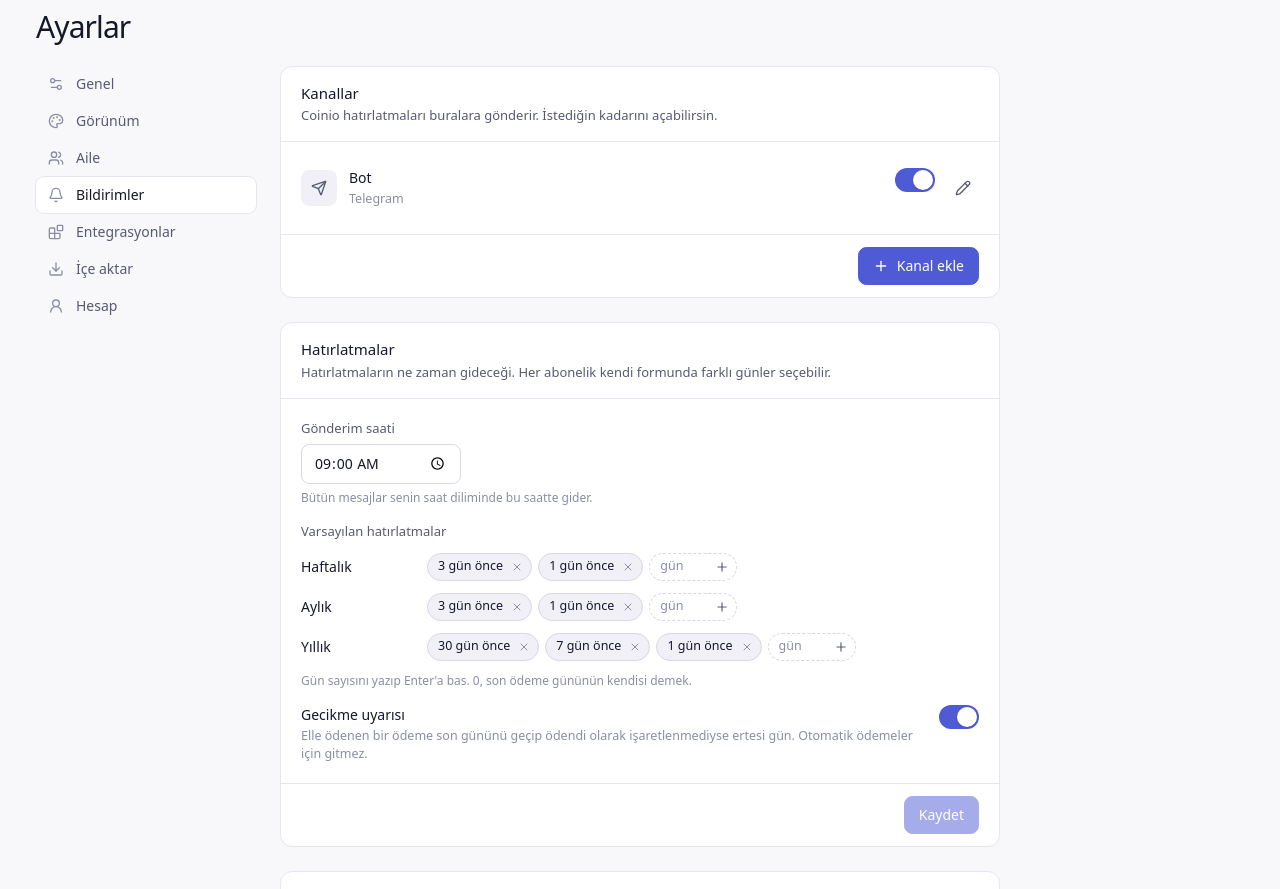
Test: settings › never shows a saved secret, only that it is saved
Click the button named "bot kanalını düzenle": (963, 188) [947,172,979,204]
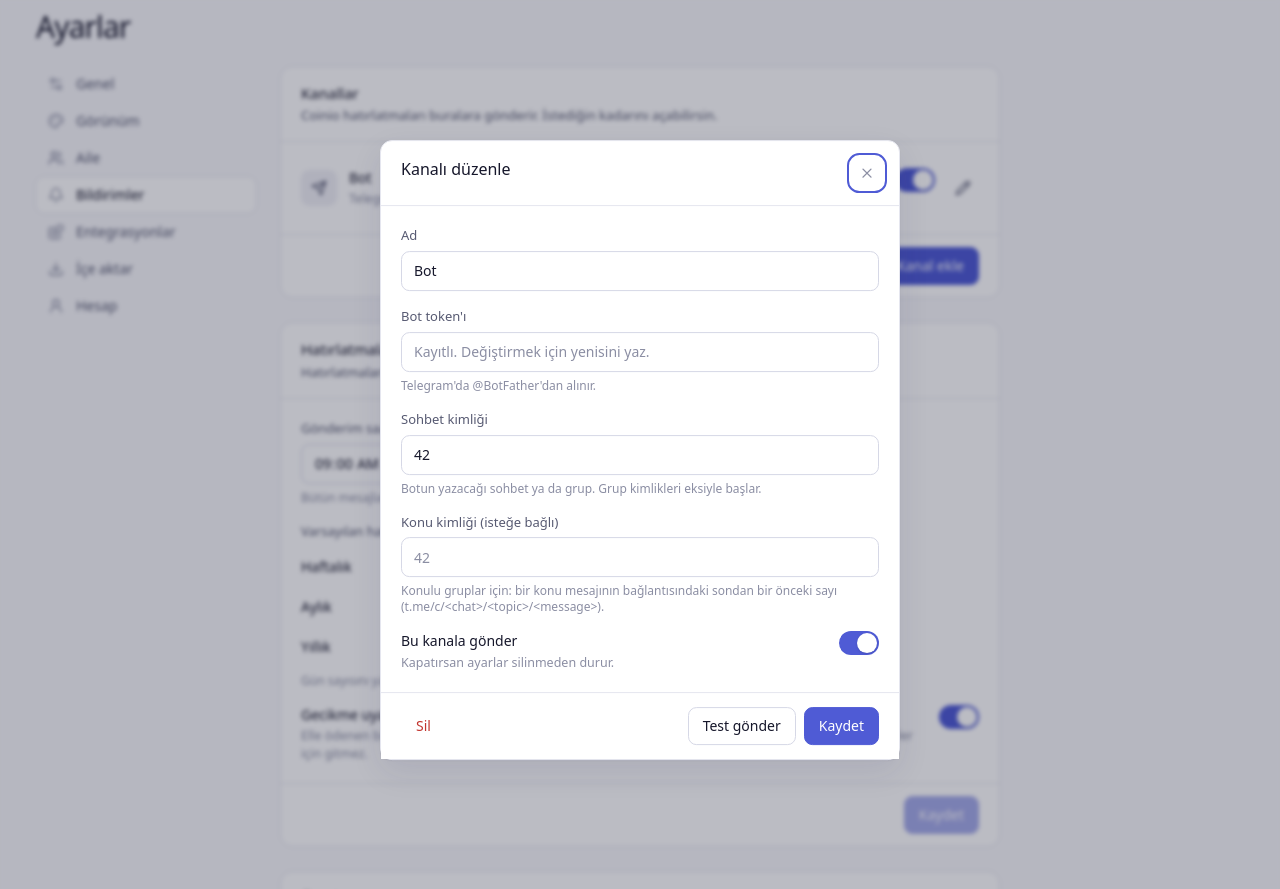
Expected: the password field labelled "Bot token'ı" is empty, [401,332,879,372]
